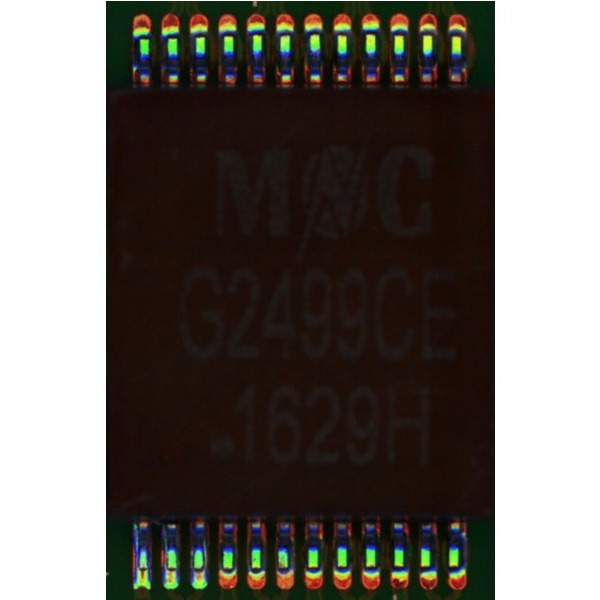Bad_podu: (163, 563, 174, 579), (192, 564, 202, 580), (136, 564, 146, 579)
Bad_qiaojiao: (133, 520, 138, 566), (161, 528, 167, 566), (202, 535, 207, 567)
